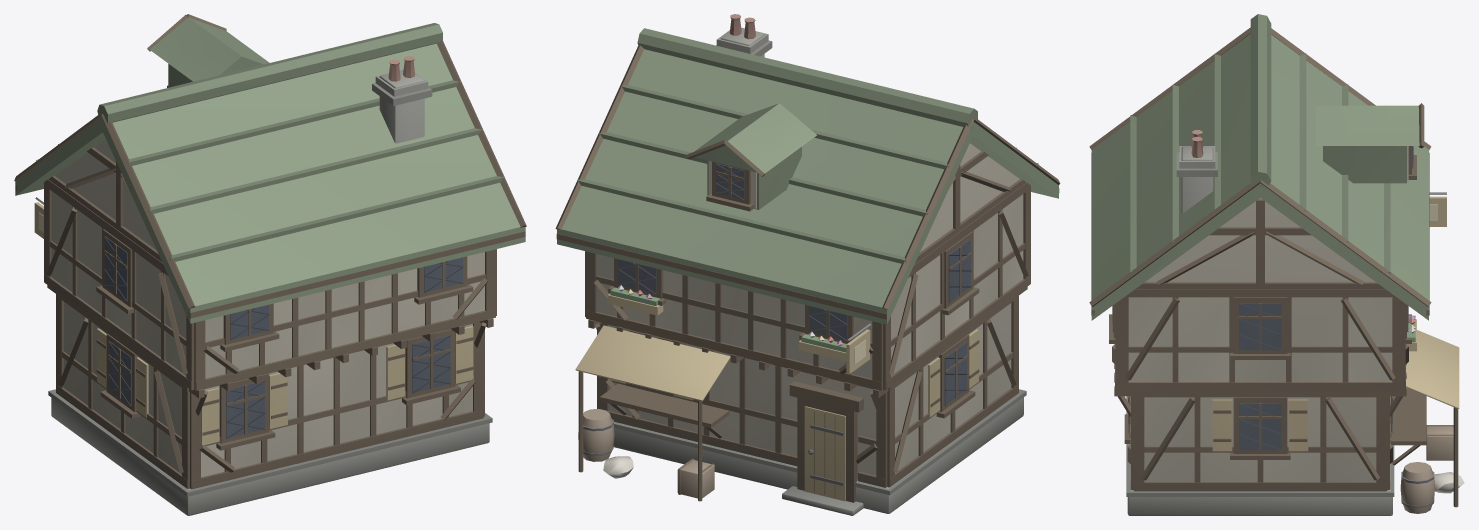
The model's file is shop_green.gltf.
The picture shows the model from 3 angles, left to right: view 1: azimuth 30°, elevation 25°; view 2: azimuth 150°, elevation 25°; view 3: azimuth 270°, elevation 25°; orthographic projection. The views are drawn at different scales.
Parts seen in each view (by area): view 1: Body; view 2: Body; view 3: Body.
Part boxes in pixels (left/top/right/bottom): Body: left=14, top=14, right=526, bottom=515; Body: left=555, top=14, right=1060, bottom=515; Body: left=1089, top=14, right=1464, bottom=515.
Size of the model in its own units: 8.37 by 8.76 by 8.34.
